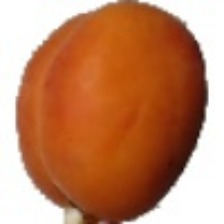apricot: (42, 30, 193, 171)
